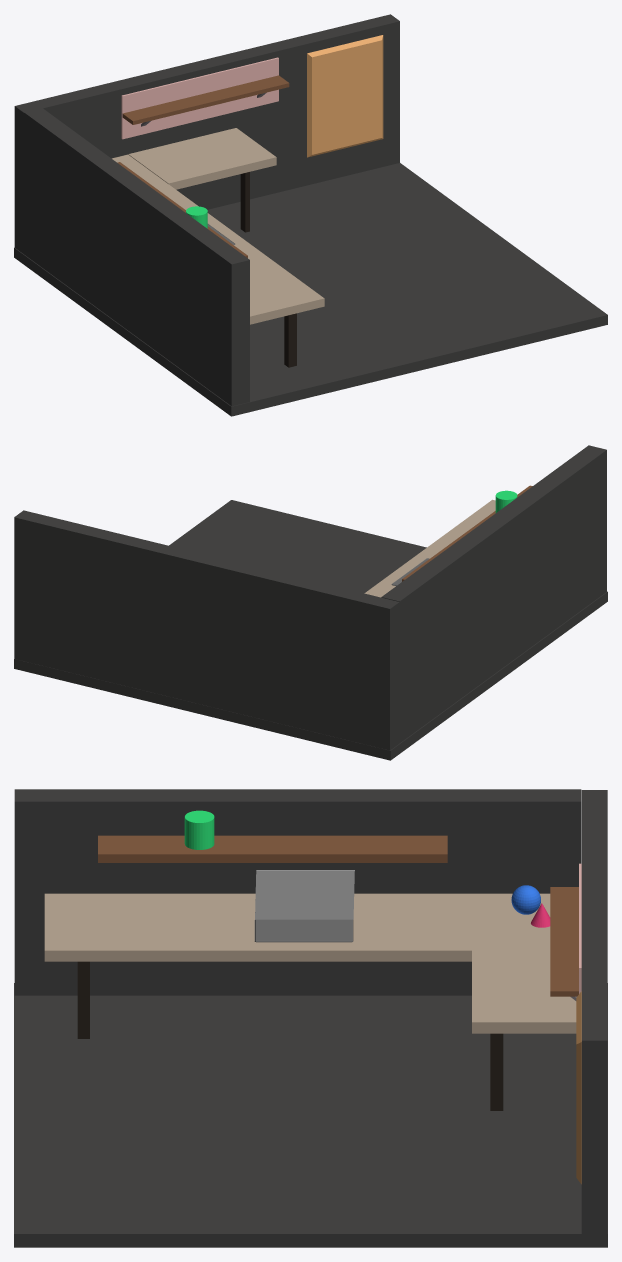
The model's file is Roomwork.glb.
The picture shows the model from 3 angles, top to bottom: view 1: azimuth 30°, elevation 25°; view 2: azimuth 150°, elevation 25°; view 3: azimuth 270°, elevation 25°; orthographic projection. The views are drawn at different scales.
Parts seen in each view (by area): view 1: Plane, Cube.002, Cube.001, Cube.003, Cube, Cube.004, Cube.008, Cube.009; view 2: Plane, Cube; view 3: Plane, Cube, Cube.006, Cube.001, Cube.011, Cube.004, Cube.010, Cylinder, Cube.002, Cube.009, Cube.008, Sphere.
Part boxes in pixels (bbox=[...]): Plane: bbox=[14, 14, 607, 416]; Cube.002: bbox=[307, 35, 383, 157]; Cube.001: bbox=[128, 128, 276, 189]; Cube.003: bbox=[121, 57, 278, 139]; Cube: bbox=[112, 154, 324, 324]; Cube.004: bbox=[122, 75, 289, 124]; Cube.008: bbox=[284, 313, 296, 367]; Cube.009: bbox=[240, 172, 249, 232]; Plane: bbox=[14, 445, 607, 760]; Cube: bbox=[364, 499, 495, 597]; Plane: bbox=[14, 789, 607, 1247]; Cube: bbox=[44, 893, 550, 961]; Cube.006: bbox=[98, 835, 447, 862]; Cube.001: bbox=[472, 950, 576, 1033]; Cube.011: bbox=[255, 870, 354, 919]; Cube.004: bbox=[550, 887, 578, 996]; Cube.010: bbox=[254, 919, 353, 942]; Cylinder: bbox=[184, 810, 214, 849]; Cube.002: bbox=[576, 991, 581, 1184]; Cube.009: bbox=[490, 1033, 503, 1110]; Cube.008: bbox=[77, 961, 89, 1038]; Sphere: bbox=[511, 885, 540, 914].
Size of what is drawn, in the model's own units: 8 by 3.08 by 8.
